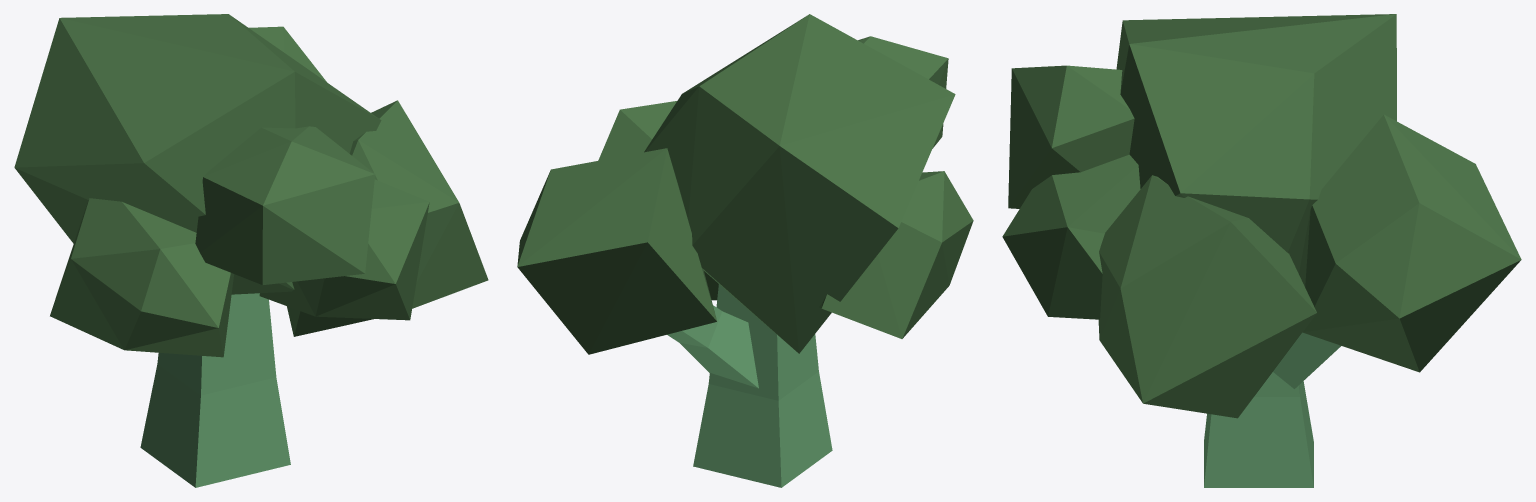
The model's file is broccoli.fbx.
The picture shows the model from 3 angles, left to right: view 1: azimuth 30°, elevation 25°; view 2: azimuth 150°, elevation 25°; view 3: azimuth 270°, elevation 25°; orthographic projection. The views are drawn at different scales.
Parts seen in each view (by area): view 1: broccoli; view 2: broccoli; view 3: broccoli.
Boxes of the visible parts, x1,y1,x2,y2 form: broccoli: [14, 14, 488, 487]; broccoli: [517, 14, 973, 487]; broccoli: [1002, 14, 1521, 487].
Bounding box in the file's own units: 12.06 × 12.71 × 13.99.
1 material, 1 textured.
